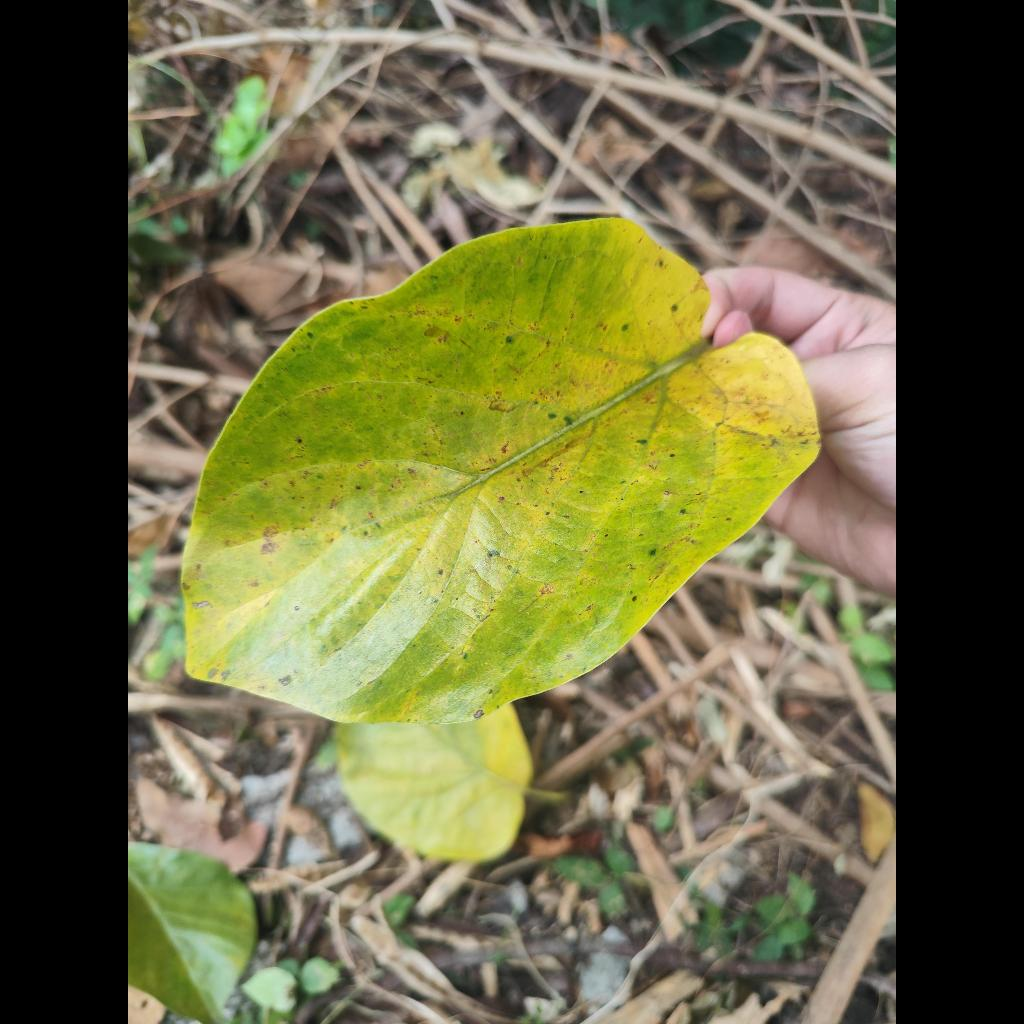nutrient_deficiency: (183, 220, 818, 725)
